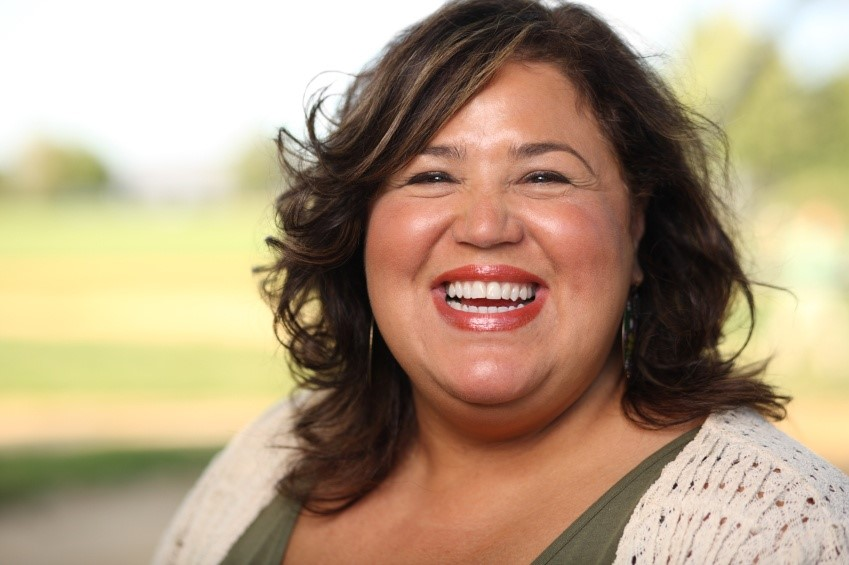face_no_mask: (340, 3, 671, 438)
